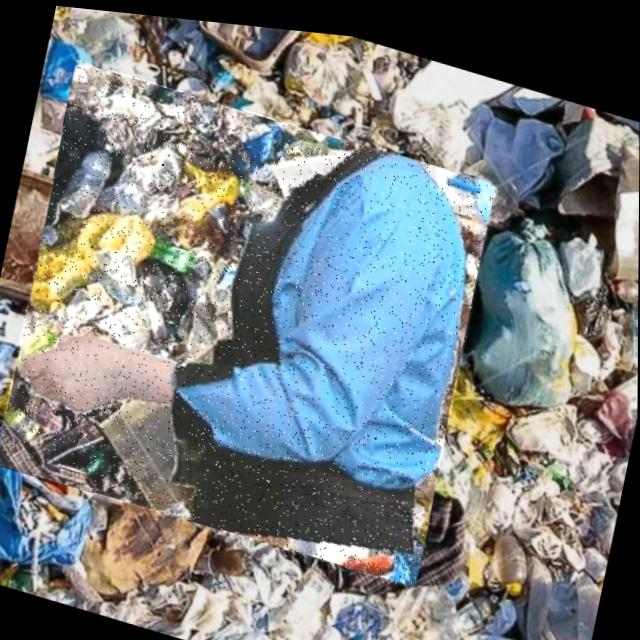Person in Rubble: (0, 52, 498, 587)
